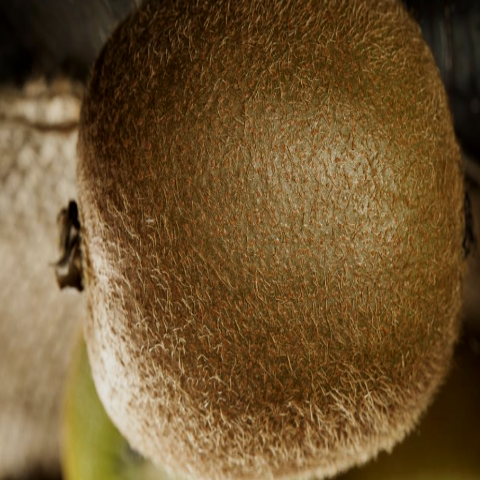kiwi: (34, 0, 479, 477)
